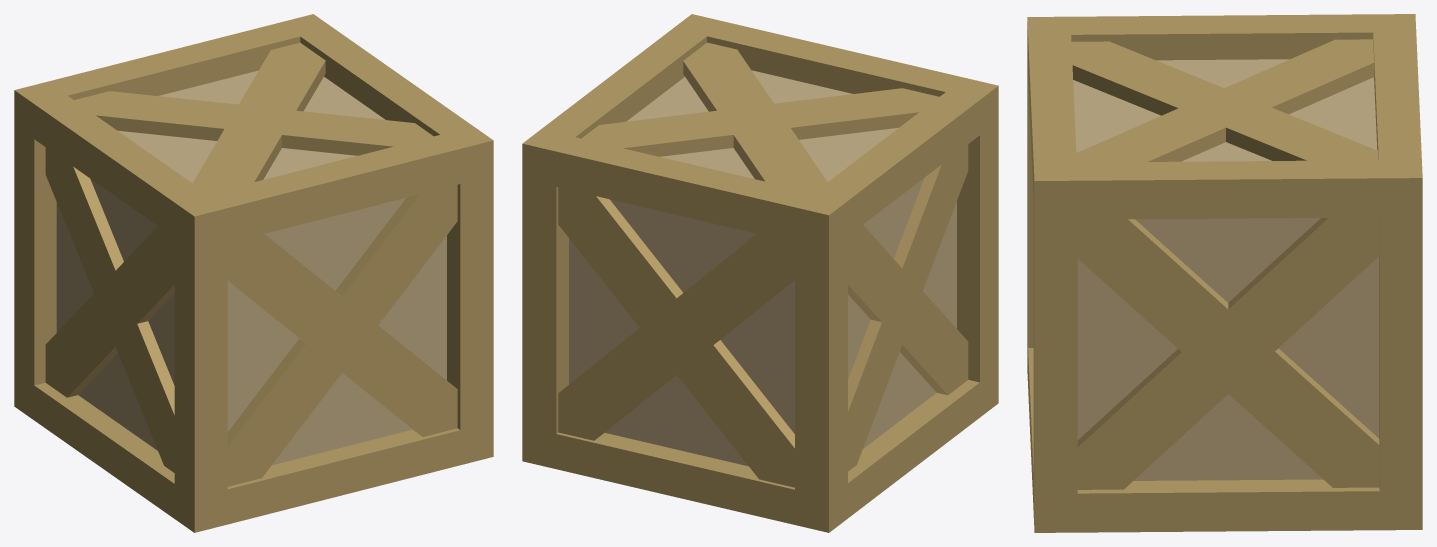
The picture shows the model from 3 angles, left to right: view 1: azimuth 30°, elevation 25°; view 2: azimuth 150°, elevation 25°; view 3: azimuth 270°, elevation 25°; orthographic projection. The views are drawn at different scales.
Visible parts, largest first — view 1: Box; view 2: Box; view 3: Box.
Boxes of the visible parts, <box> form: Box: <box>14,14,493,532</box>; Box: <box>522,14,998,532</box>; Box: <box>1027,14,1422,532</box>.
Bounding box in the file's own units: 138 × 135 × 138.
